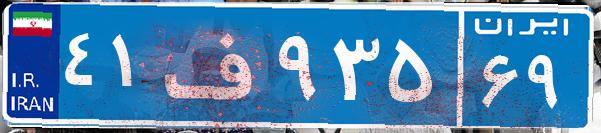1: (110, 28, 158, 105)
3: (330, 28, 385, 110)
4: (57, 26, 110, 107)
5: (385, 28, 445, 110)
6: (475, 38, 525, 113)
9: (273, 28, 330, 110), (525, 38, 570, 115)
ف: (158, 15, 273, 115)
